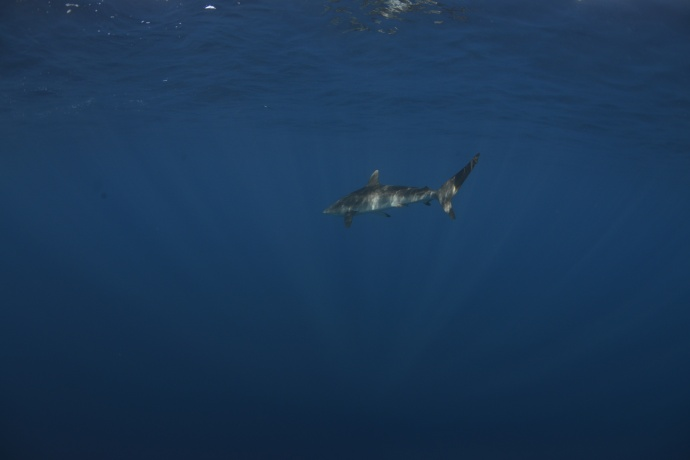Sedoso: (308, 149, 487, 235)
